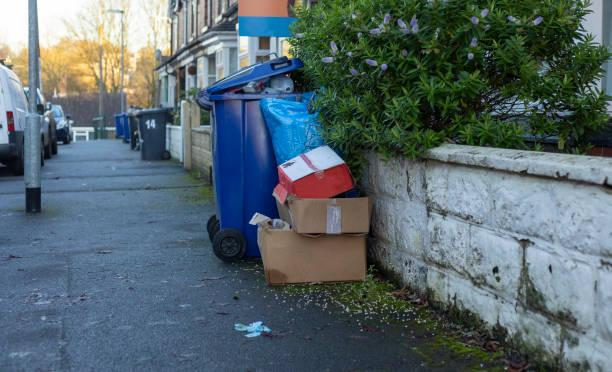trash: (235, 198, 382, 291), (262, 93, 352, 203), (268, 155, 377, 236), (208, 64, 310, 106)
trash_can_overflow: (189, 48, 383, 291)
